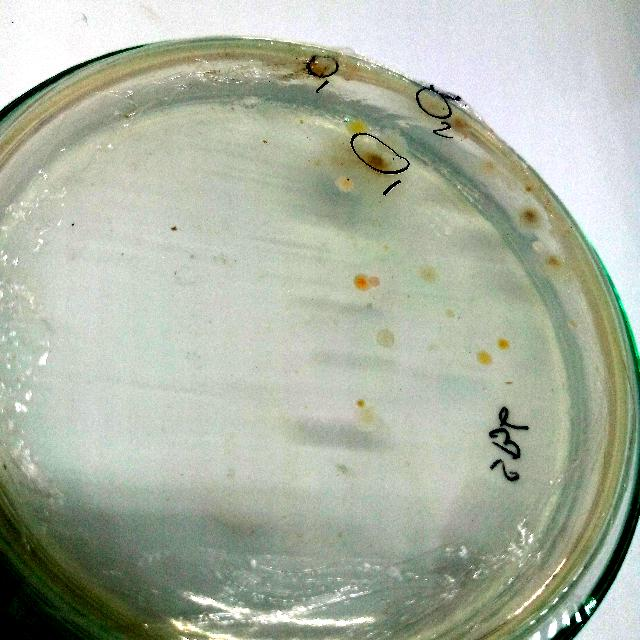colony: (418, 91, 448, 119), (364, 148, 392, 176), (518, 202, 544, 232), (373, 325, 399, 353), (304, 58, 334, 82), (332, 172, 358, 195), (449, 111, 473, 133), (475, 346, 497, 370), (416, 263, 440, 285), (346, 116, 368, 138), (352, 270, 372, 292), (544, 252, 564, 270), (366, 270, 384, 290), (441, 309, 461, 323), (494, 336, 512, 350), (352, 396, 370, 410), (168, 222, 184, 236), (520, 182, 536, 194)
